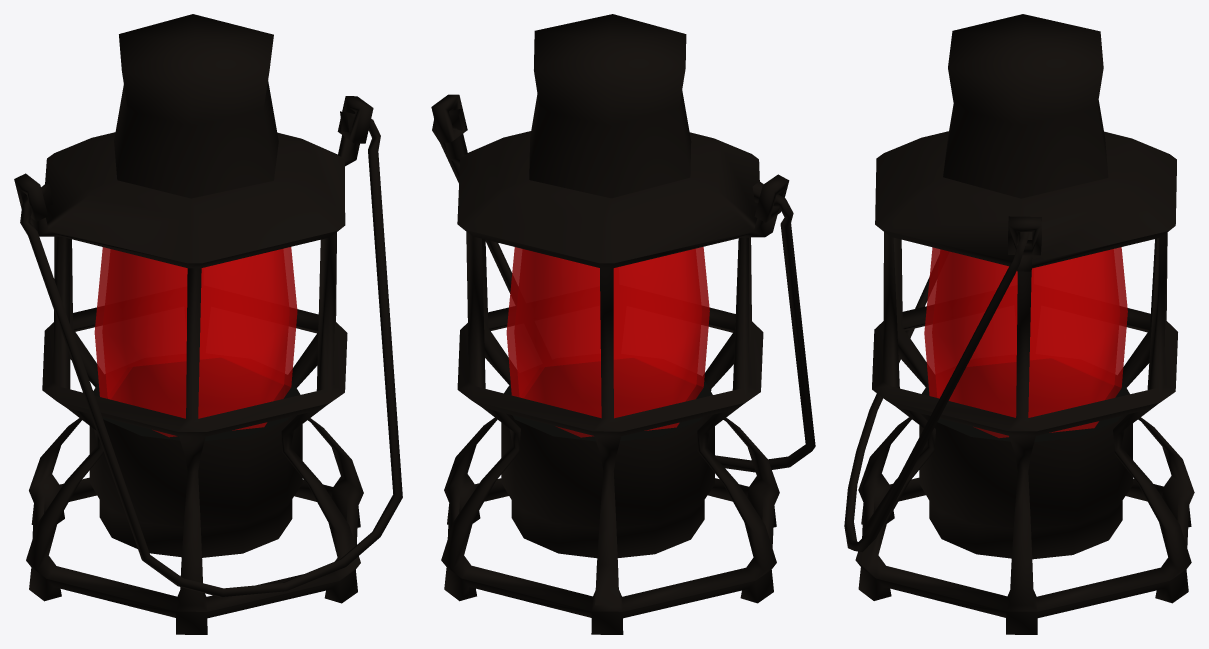
3 renders of one model, left to right at view 1: azimuth 30°, elevation 25°; view 2: azimuth 150°, elevation 25°; view 3: azimuth 270°, elevation 25°, orthographic.
Parts seen in each view (by area): view 1: BrakemanLantern; view 2: BrakemanLantern; view 3: BrakemanLantern.
Boxes of the visible parts, box(x1,y1,x2,y2) form: BrakemanLantern: box(14, 14, 402, 634); BrakemanLantern: box(431, 14, 815, 634); BrakemanLantern: box(844, 14, 1194, 634).
Bounding box in the file's own units: 0.1934 × 0.266 × 0.1632.
2 materials, 2 textured.
